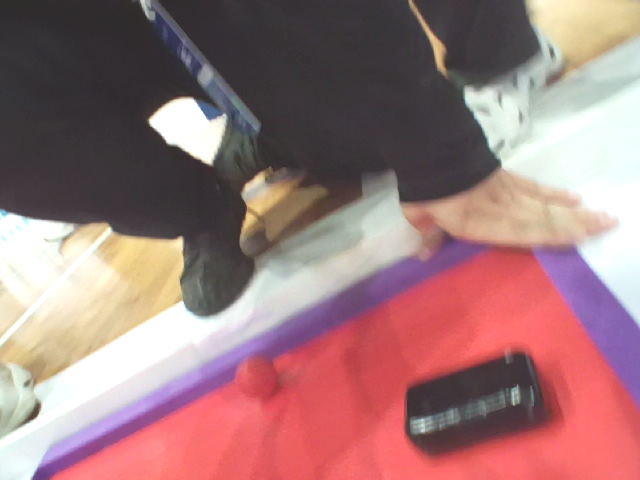black: (402, 347, 553, 449)
kuang: (24, 200, 640, 480)
red: (229, 357, 280, 400)
